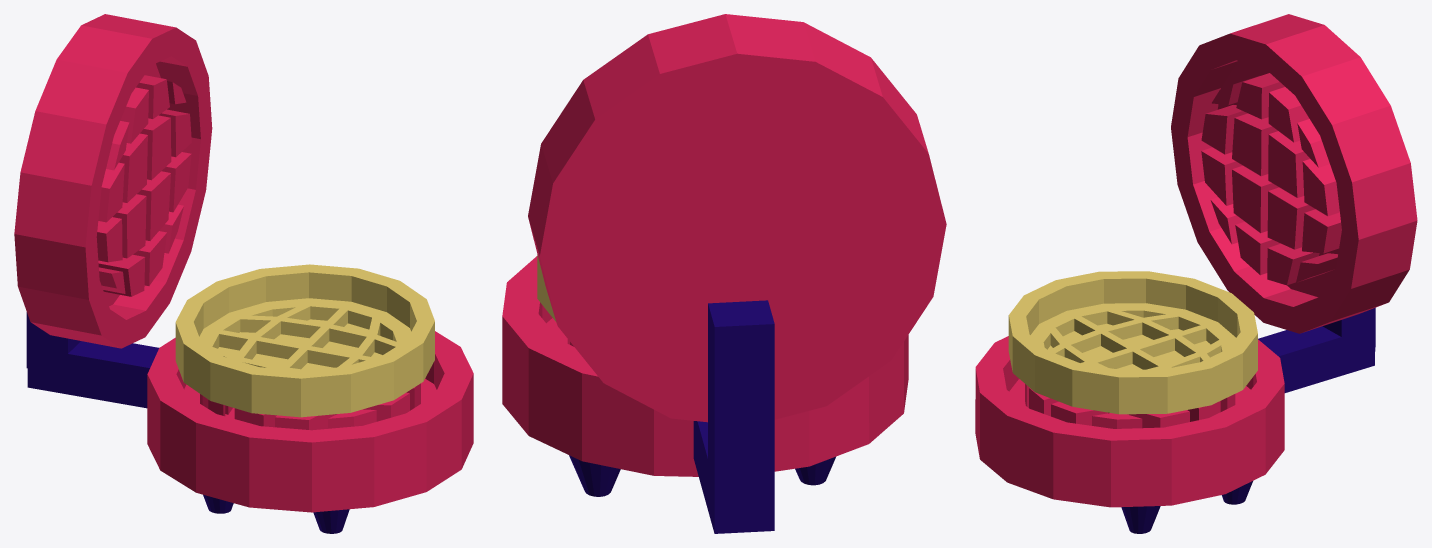
Rendered from waffle.glb.
The picture shows the model from 3 angles, left to right: view 1: azimuth 30°, elevation 25°; view 2: azimuth 150°, elevation 25°; view 3: azimuth 270°, elevation 25°; orthographic projection. The views are drawn at different scales.
Visible parts, largest first — view 1: Cube.001, Cube, Cylinder, Cube.003, Cube.002, Cylinder.003; view 2: Cube.001, Cube, Cube.002, Cube.003, Cylinder.001, Cylinder.004; view 3: Cube.001, Cube, Cylinder, Cube.003, Cube.002, Cylinder.002.
Boxes of the visible parts, left/top/right/bottom form: Cube.001: left=14, top=14, right=212, bottom=348; Cube: left=147, top=331, right=473, bottom=512; Cylinder: left=175, top=264, right=434, bottom=417; Cube.003: left=27, top=341, right=158, bottom=408; Cube.002: left=26, top=312, right=80, bottom=375; Cylinder.003: left=313, top=509, right=349, bottom=533; Cube.001: left=528, top=14, right=946, bottom=422; Cube: left=502, top=256, right=908, bottom=476; Cube.002: left=708, top=300, right=774, bottom=510; Cube.003: left=693, top=421, right=774, bottom=533; Cylinder.001: left=569, top=455, right=620, bottom=496; Cylinder.004: left=795, top=456, right=835, bottom=485; Cube.001: left=1171, top=14, right=1417, bottom=333; Cube: left=975, top=336, right=1284, bottom=507; Cylinder: left=1008, top=271, right=1257, bottom=414; Cube.003: left=1258, top=326, right=1375, bottom=392; Cube.002: left=1322, top=307, right=1375, bottom=357; Cylinder.002: left=1121, top=506, right=1160, bottom=533.
Size of the model in its own units: 2.72 by 2.85 by 2.84.
